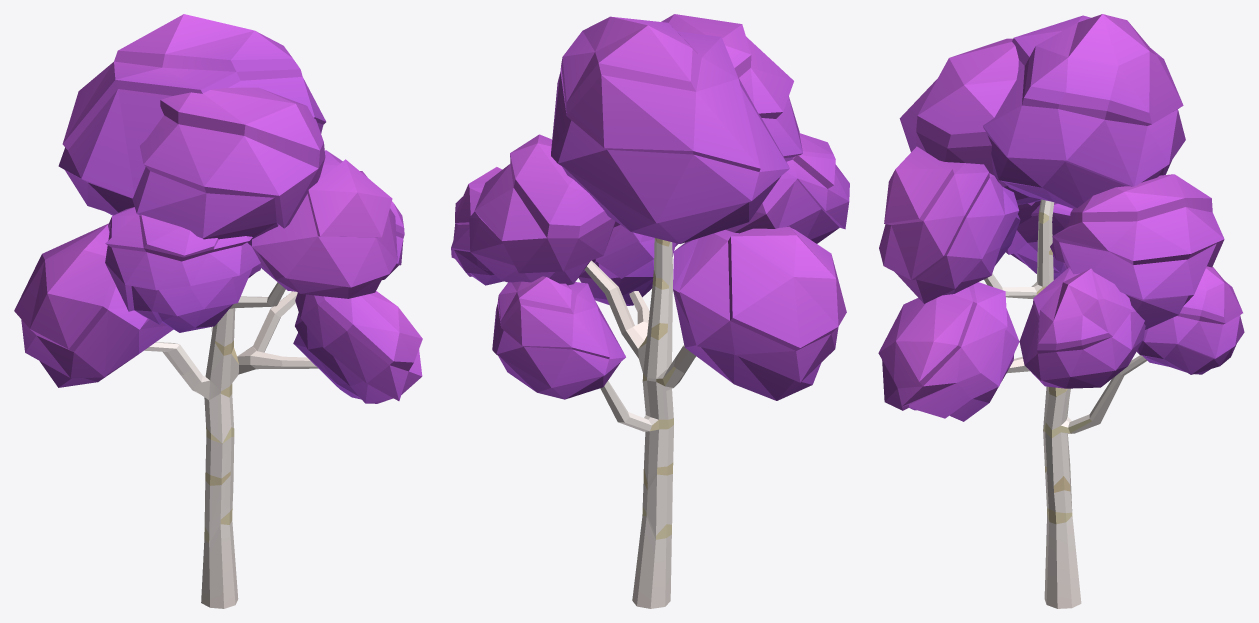
File: tree1.fbx
The picture shows the model from 3 angles, left to right: view 1: azimuth 30°, elevation 25°; view 2: azimuth 150°, elevation 25°; view 3: azimuth 270°, elevation 25°; orthographic projection. The views are drawn at different scales.
Visible parts, largest first — view 1: PP_Birch_Tree_06_8; view 2: PP_Birch_Tree_06_8; view 3: PP_Birch_Tree_06_8.
Part boxes in pixels (bbox=[...]): PP_Birch_Tree_06_8: bbox=[14, 14, 422, 608]; PP_Birch_Tree_06_8: bbox=[451, 14, 849, 608]; PP_Birch_Tree_06_8: bbox=[878, 14, 1244, 608].
Size of the model in its own units: 1777 by 3102 by 2070.
